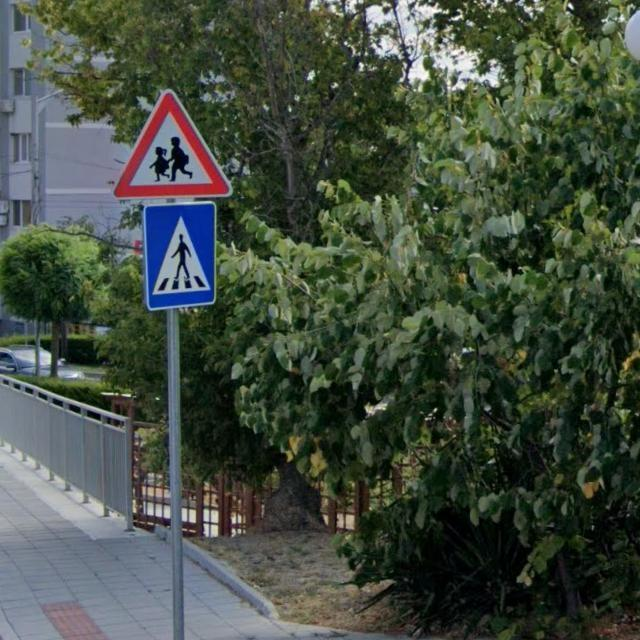info_crosswalk: (140, 207, 216, 309)
